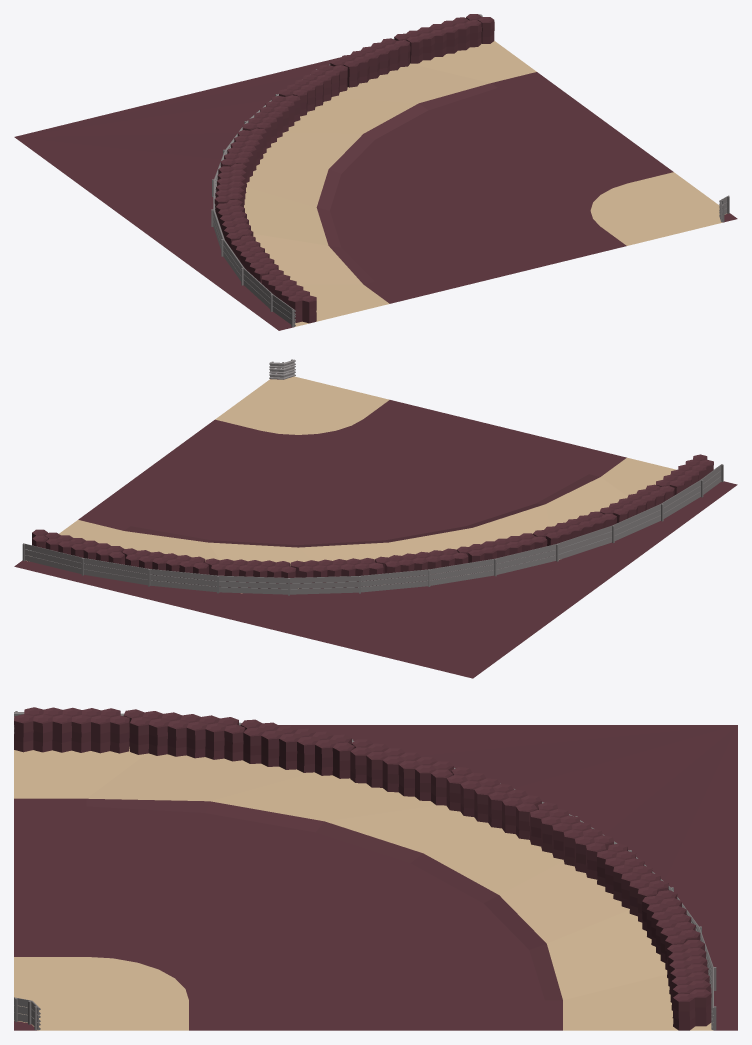
File: tiles-nb-tile-race-track-sand-curve-nb.glb
The picture shows the model from 3 angles, top to bottom: view 1: azimuth 30°, elevation 25°; view 2: azimuth 150°, elevation 25°; view 3: azimuth 270°, elevation 25°; orthographic projection. The views are drawn at different scales.
Visible parts, largest first — view 1: tile-race-track-sand-curve-nb; view 2: tile-race-track-sand-curve-nb; view 3: tile-race-track-sand-curve-nb.
Boxes of the visible parts, x1,y1,x2,y2 form: tile-race-track-sand-curve-nb: (14, 14, 737, 330); tile-race-track-sand-curve-nb: (14, 359, 737, 678); tile-race-track-sand-curve-nb: (14, 707, 737, 1030).
Bounding box in the file's own units: 30 × 1.32 × 30.
